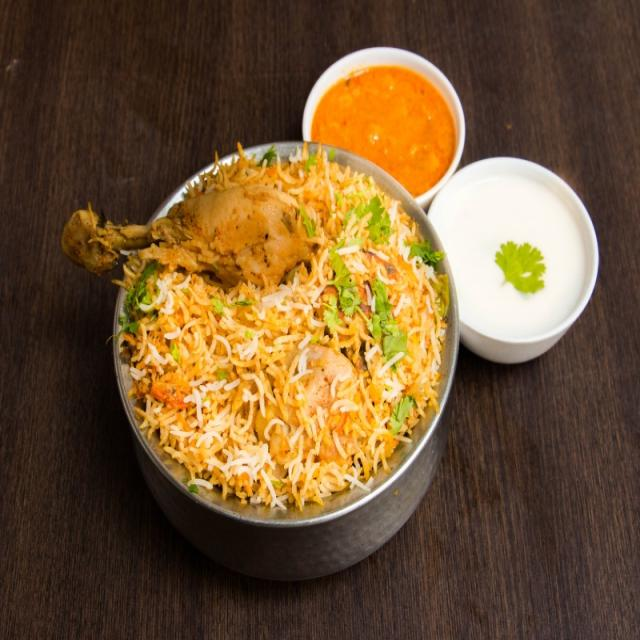Biryani: (108, 143, 458, 528)
